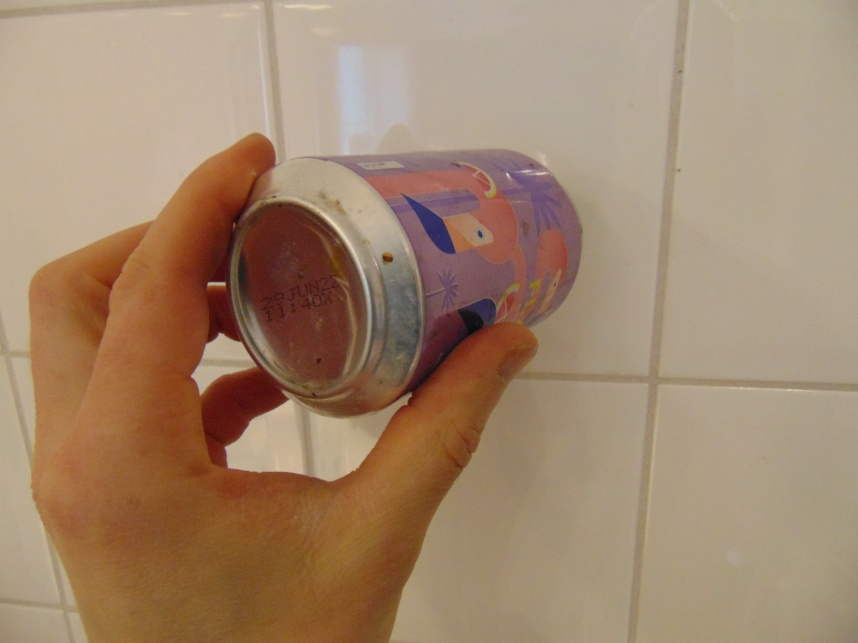metal_can: (225, 146, 584, 420)
